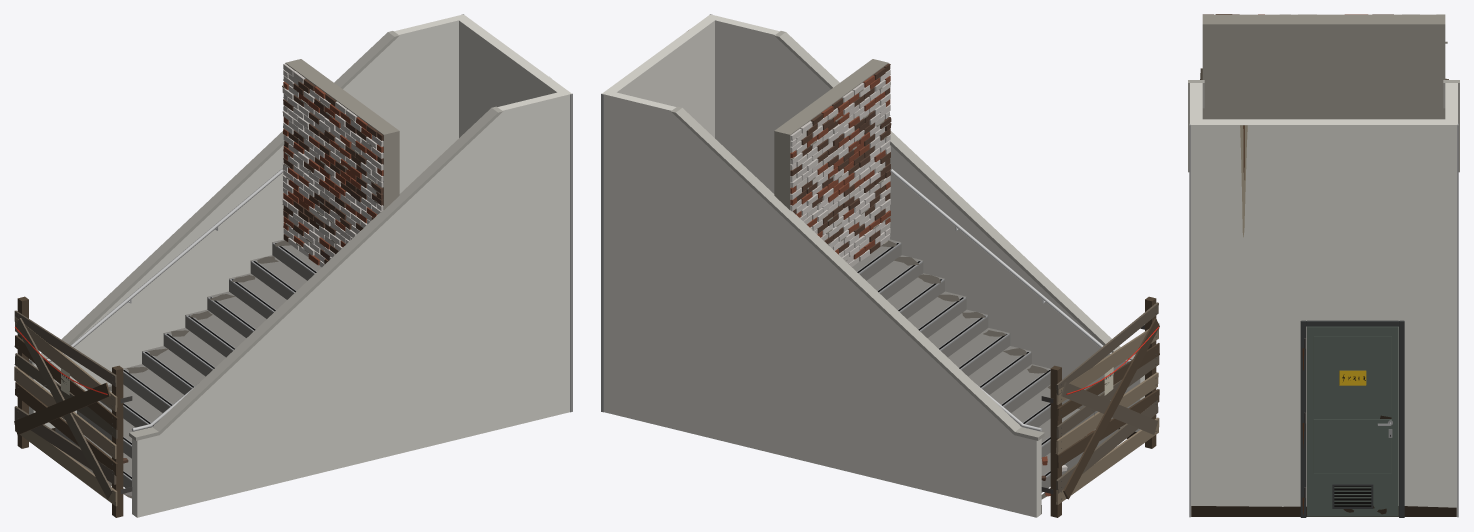
The model's file is stairs_barricaded.glb.
3 renders of one model, left to right at view 1: azimuth 30°, elevation 25°; view 2: azimuth 150°, elevation 25°; view 3: azimuth 270°, elevation 25°, orthographic. The views are drawn at different scales.
Parts seen in each view (by area): view 1: wand-1, wand1, stufen, rueckwand, abdeckung-1, abdeckung1, moertel, diagonal0, diagonal1, brett0, brett3, pfosten-1 (+8 smaller); view 2: wand1, wand-1, stufen, rueckwand, abdeckung1, abdeckung-1, moertel, diagonal1, diagonal0, brett0, brett3, pfosten1 (+8 smaller); view 3: rueckwand, moertel, tuerblatt, sicke1.16, sicke0.48, sockel_hinten, zarge_l, zarge_r, kantenschutz-1, kantenschutz1, gitter_dunkel, zarge_o (+5 smaller).
Boxes of the visible parts, x1,y1,x2,y2 form: wand-1: [132, 92, 569, 517]; wand1: [29, 14, 466, 428]; stufen: [55, 239, 321, 487]; rueckwand: [455, 14, 571, 137]; abdeckung-1: [129, 106, 502, 440]; abdeckung1: [29, 31, 399, 364]; moertel: [285, 59, 399, 209]; diagonal0: [15, 318, 112, 498]; diagonal1: [14, 382, 110, 434]; brett0: [14, 420, 117, 506]; brett3: [14, 366, 116, 458]; pfosten-1: [112, 365, 123, 517]; wand1: [604, 92, 1041, 517]; wand-1: [707, 14, 1144, 431]; stufen: [852, 239, 1118, 492]; rueckwand: [602, 14, 718, 137]; abdeckung1: [671, 106, 1044, 440]; abdeckung-1: [774, 31, 1135, 359]; moertel: [774, 59, 888, 209]; diagonal1: [1063, 318, 1159, 499]; diagonal0: [1061, 382, 1157, 434]; brett0: [1056, 417, 1159, 504]; brett3: [1055, 372, 1158, 454]; pfosten1: [1050, 365, 1061, 517]; rueckwand: [1190, 119, 1457, 516]; moertel: [1202, 14, 1445, 119]; tuerblatt: [1307, 326, 1398, 516]; sicke1.16: [1313, 336, 1391, 409]; sicke0.48: [1313, 419, 1391, 473]; sockel_hinten: [1191, 506, 1456, 516]; zarge_l: [1300, 320, 1306, 517]; zarge_r: [1399, 320, 1404, 517]; kantenschutz-1: [1189, 123, 1190, 517]; kantenschutz1: [1457, 123, 1458, 517]; gitter_dunkel: [1334, 486, 1371, 506]; zarge_o: [1306, 320, 1398, 326].
Size of the model in its own units: 6.4 by 4.21 by 2.64.
